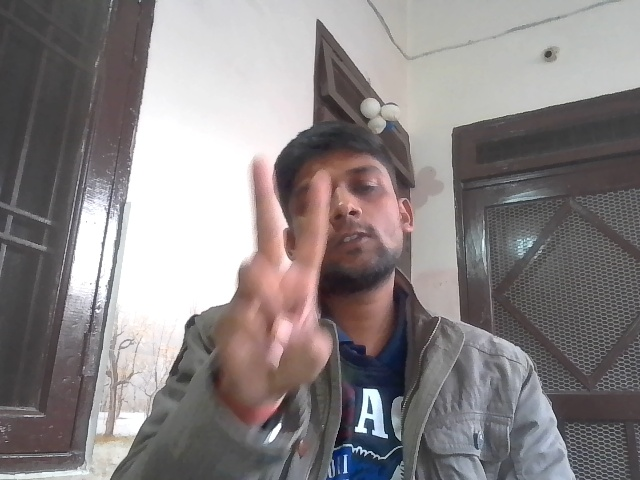Enjoy: (218, 151, 335, 398)
